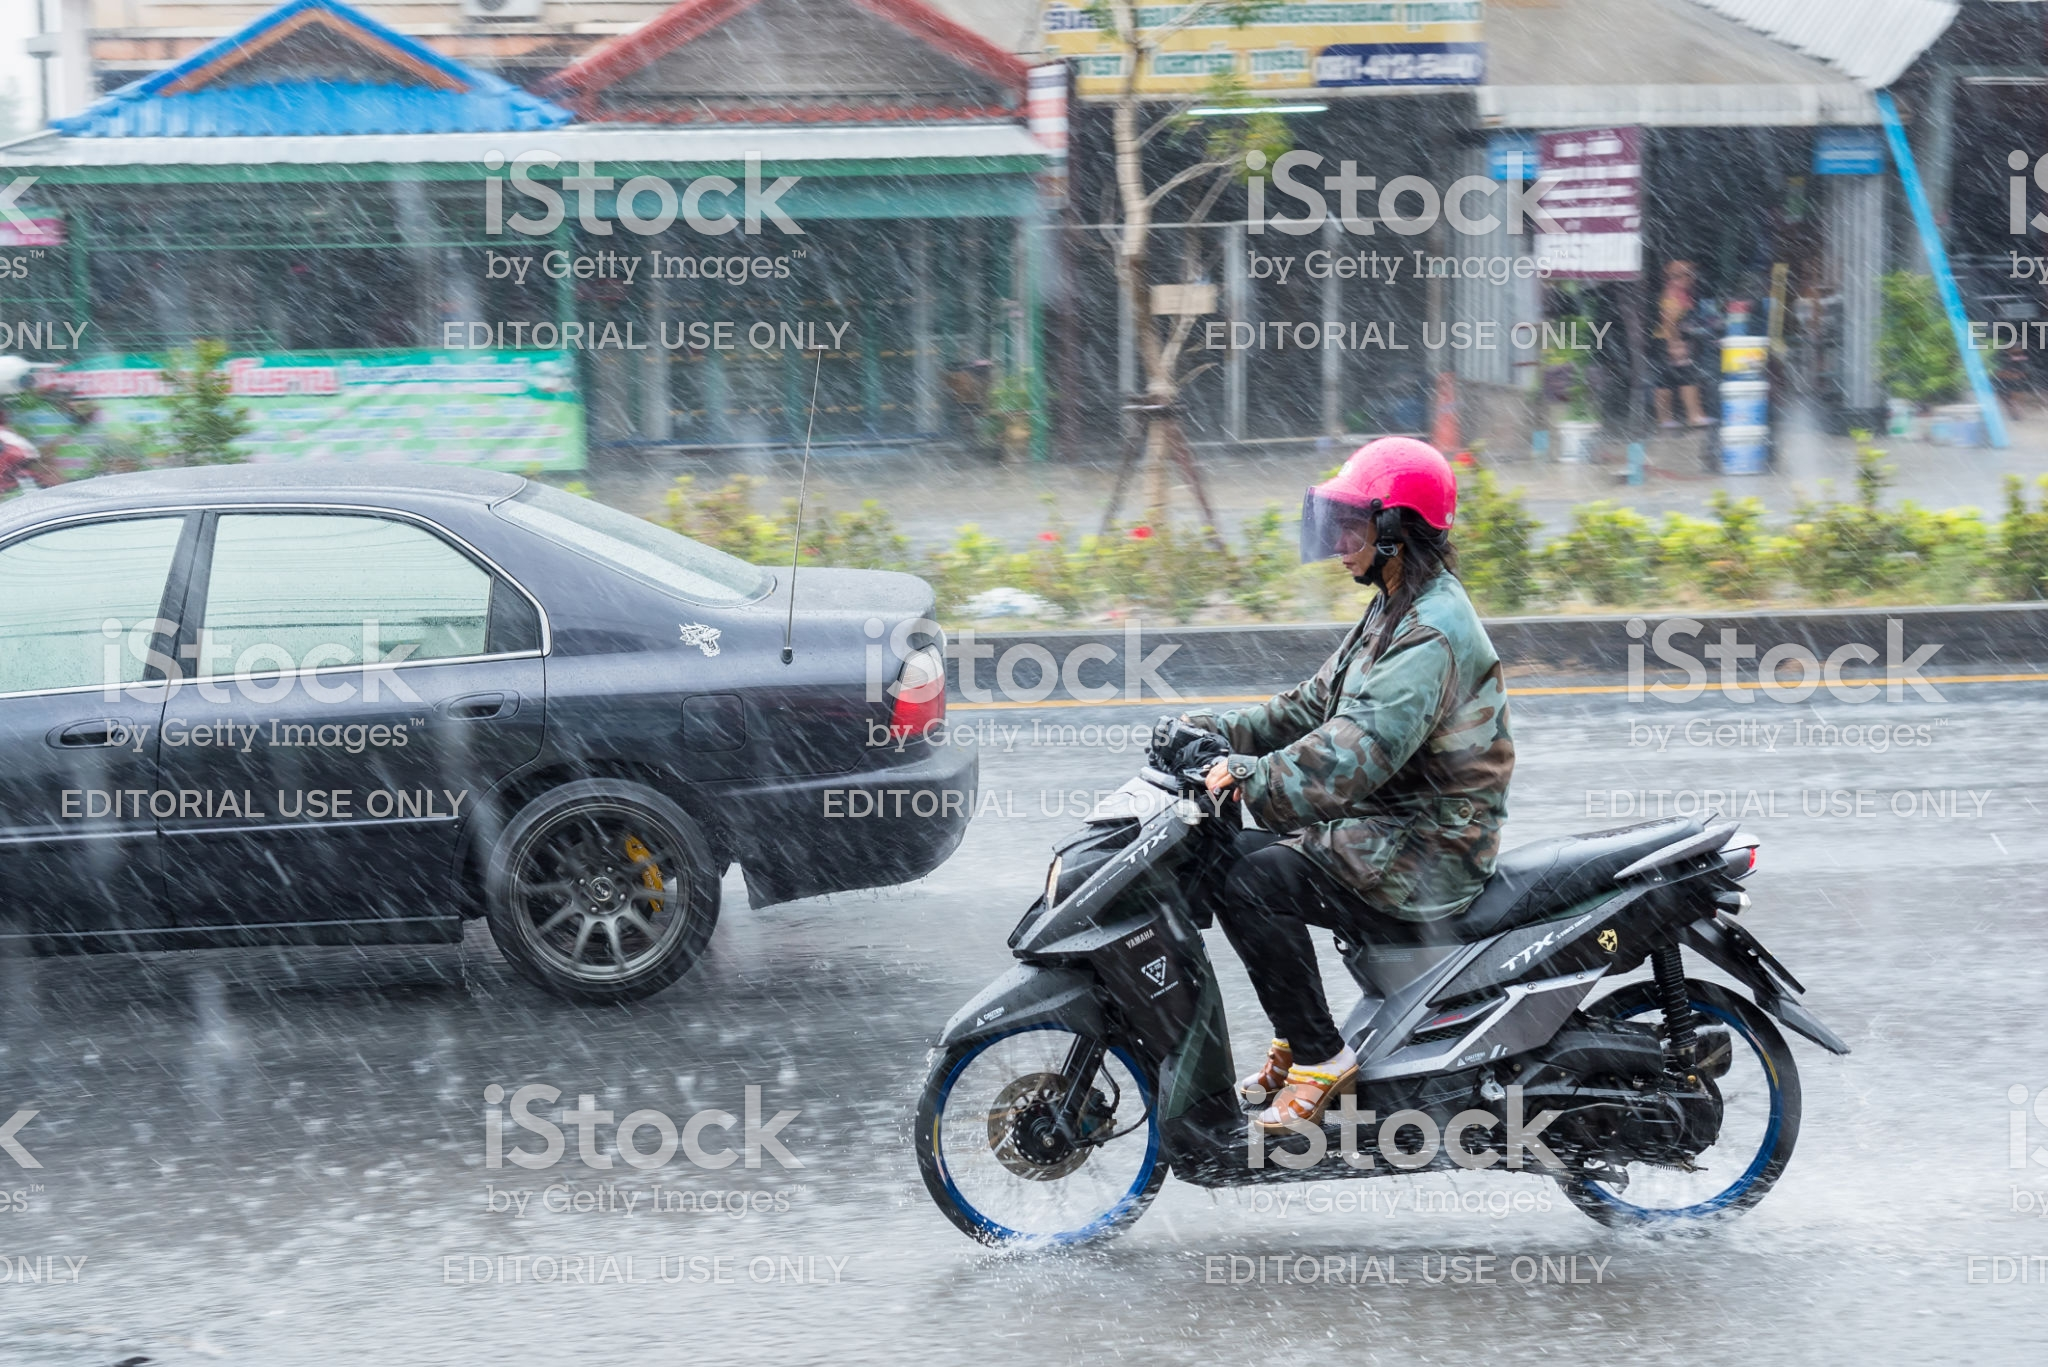helmet: (1321, 433, 1475, 539)
